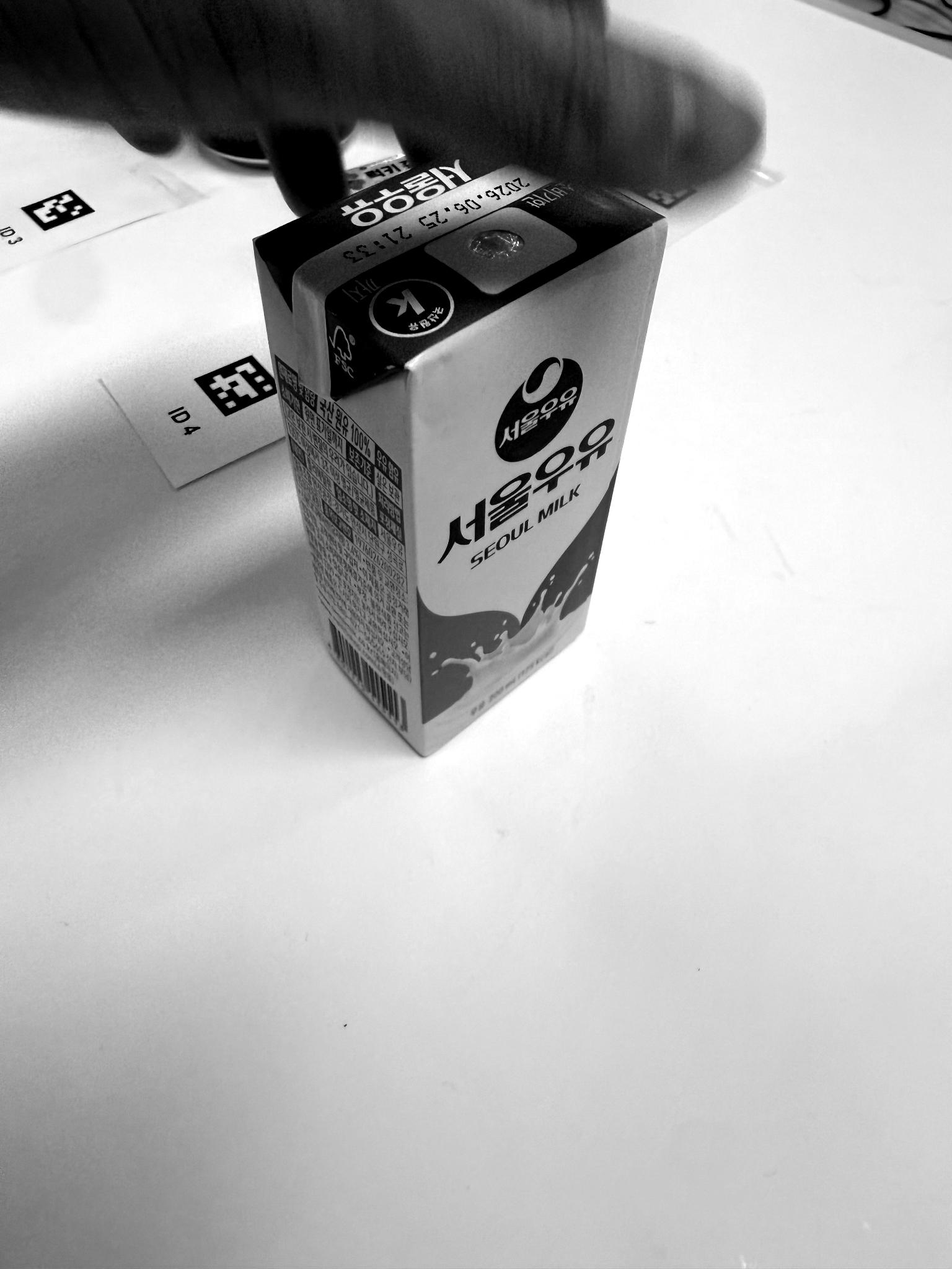milk_green: (255, 154, 666, 754)
